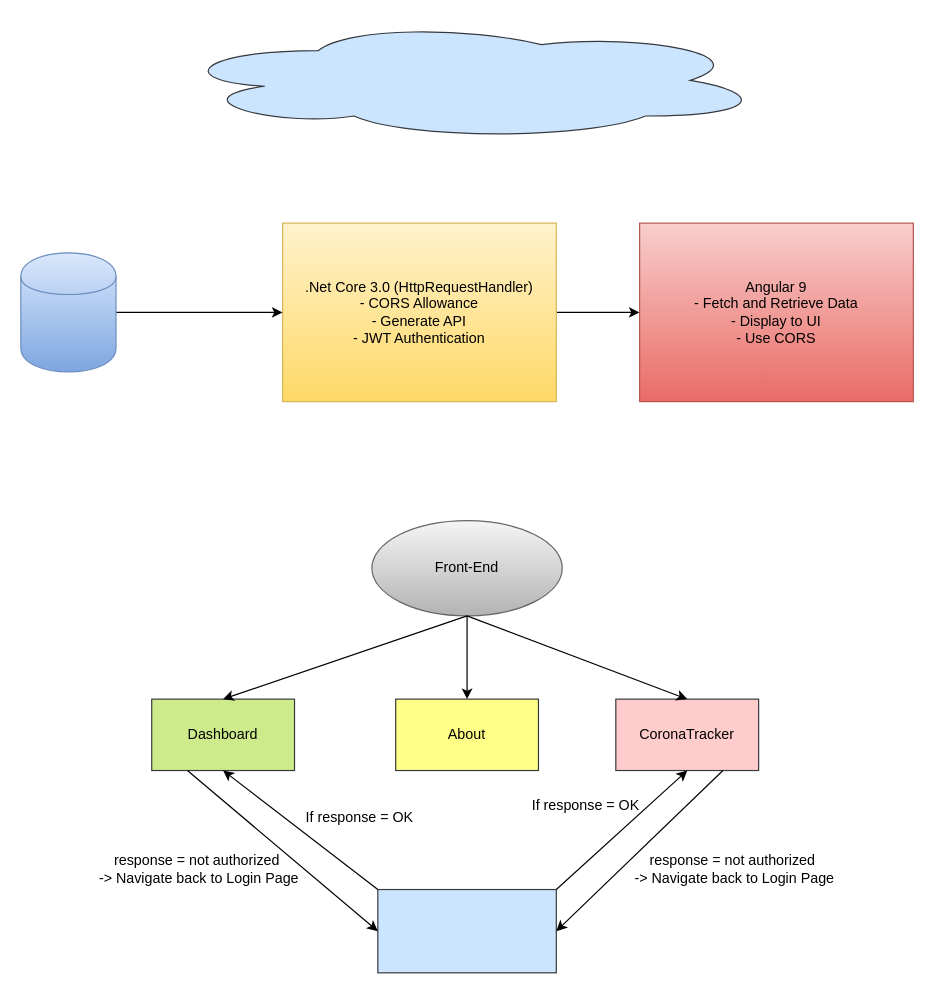
This 934x994 diagram has some shape labels left out. Each missing label, with the box of its shape:
Blueprint of Corona Tracker Project: (168, 20, 765, 140)
MySQL: (20, 252, 116, 372)
UserLogin/Register - NavigateByUrl(): (377, 888, 556, 973)
